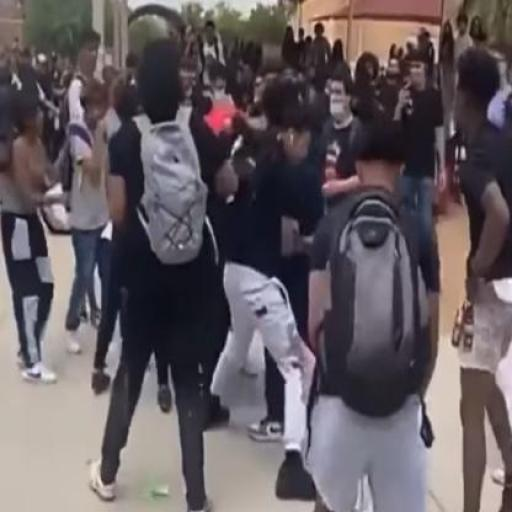Fighting: (49, 0, 451, 501)
